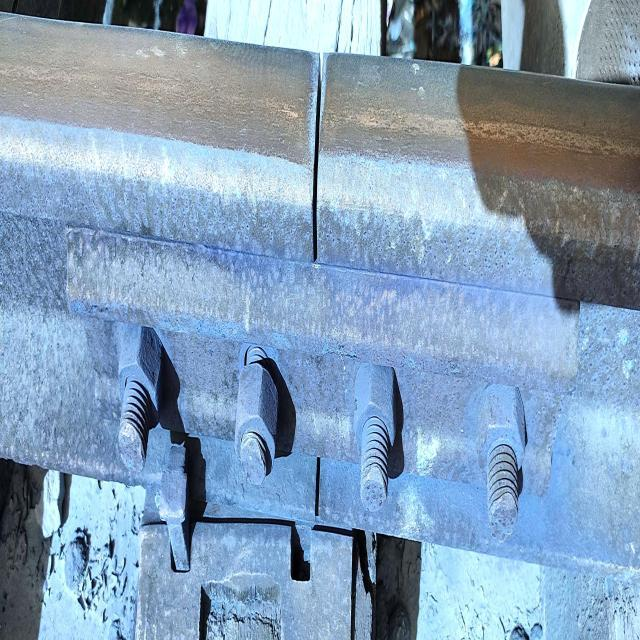Good Fasteners: (158, 445, 190, 571)
Good Joint: (65, 229, 581, 545)
Missing Dogscrew: (290, 524, 310, 581)
